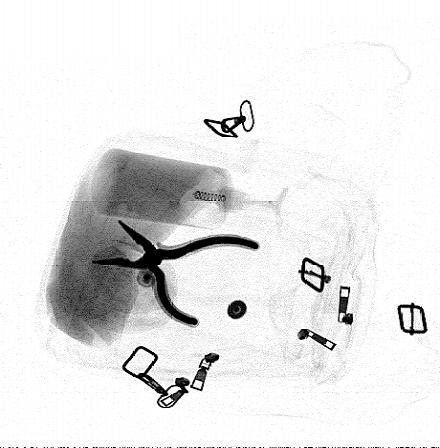Pliers: (80, 217, 261, 327)
